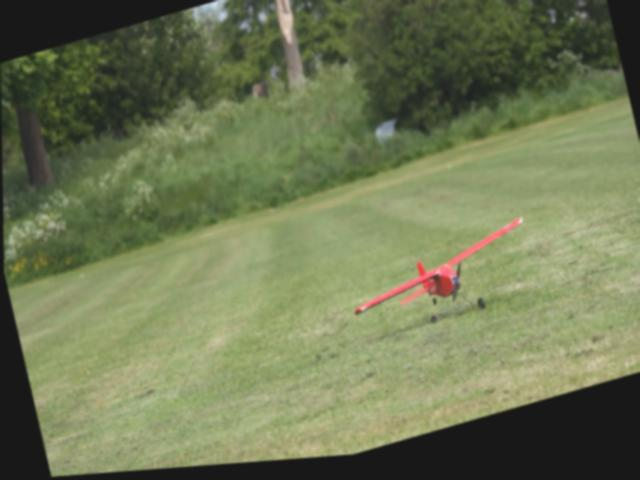plane: (342, 222, 540, 354)
